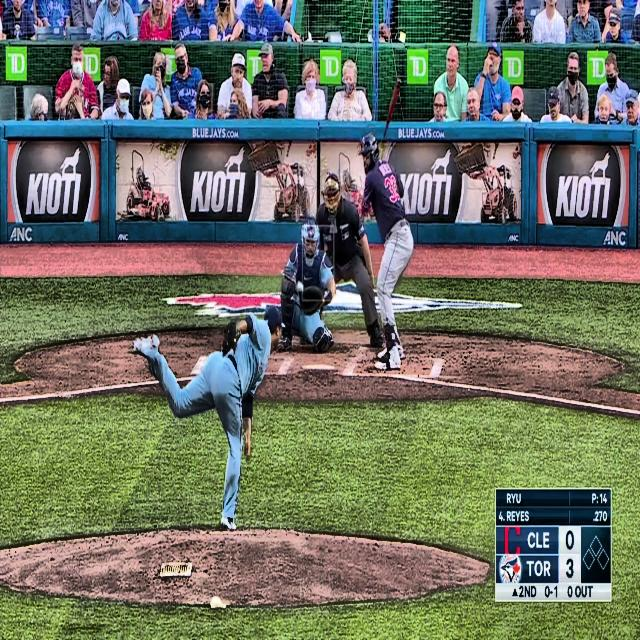baseball: (295, 279, 304, 295)
